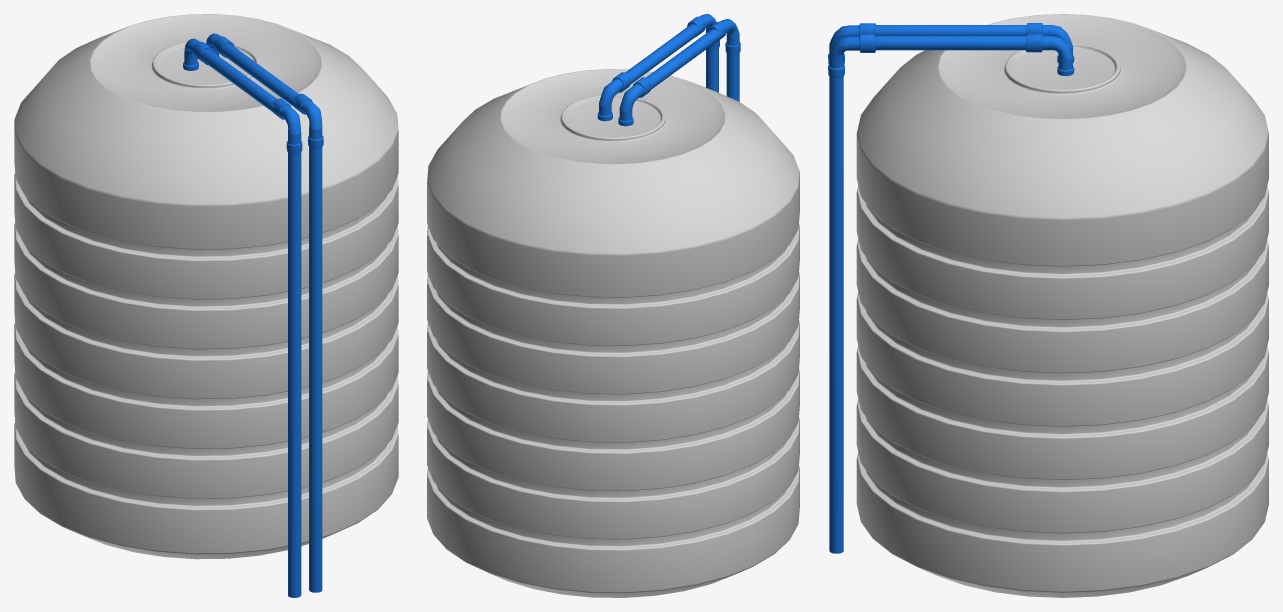
File: tank.fbx
3 renders of one model, left to right at view 1: azimuth 30°, elevation 25°; view 2: azimuth 150°, elevation 25°; view 3: azimuth 270°, elevation 25°, orthographic. The views are drawn at different scales.
Visible parts, largest first — view 1: Cylinder.011, Cylinder.012, Cylinder.016, Cylinder.014, Cylinder.018, Cylinder.017, Cylinder.013, Cylinder.015; view 2: Cylinder.011, Cylinder.018, Cylinder.014, Cylinder.015, Cylinder.019, Cylinder.013, Cylinder.012, Cylinder.016; view 3: Cylinder.011, Cylinder.016, Cylinder.018, Cylinder.014, Cylinder.017, Cylinder.019, Cylinder.013.
Part boxes in pixels (x1,y1,x2,y2): Cylinder.011: (14, 14, 398, 559); Cylinder.012: (288, 152, 301, 597); Cylinder.016: (309, 147, 322, 592); Cylinder.014: (200, 49, 277, 113); Cylinder.018: (221, 44, 298, 108); Cylinder.017: (294, 93, 323, 148); Cylinder.013: (273, 98, 302, 153); Cylinder.015: (183, 38, 213, 70); Cylinder.011: (427, 69, 799, 597); Cylinder.018: (625, 24, 702, 84); Cylinder.014: (646, 29, 722, 89); Cylinder.015: (618, 77, 651, 126); Cylinder.019: (597, 72, 630, 121); Cylinder.013: (707, 19, 740, 54); Cylinder.012: (726, 53, 739, 101); Cylinder.016: (706, 48, 718, 92); Cylinder.011: (856, 14, 1268, 597); Cylinder.016: (829, 76, 843, 553); Cylinder.018: (875, 36, 1026, 50); Cylinder.014: (875, 25, 1026, 35); Cylinder.017: (828, 34, 875, 78); Cylinder.019: (1026, 34, 1074, 76); Cylinder.013: (828, 23, 875, 64).
Size of the model in its own units: 144 by 199 by 154.
